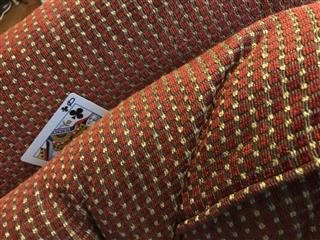QueenOfClubs: (19, 91, 108, 166)
